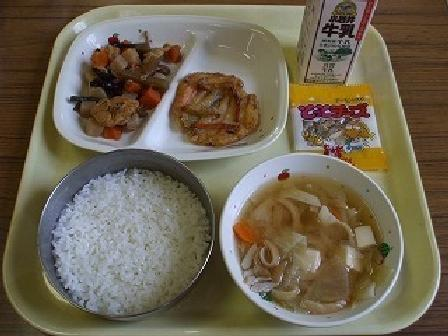Milk: (293, 0, 383, 88)
Rice: (45, 150, 217, 315)
Soups: (222, 161, 397, 320)
cooked food based on meat: (177, 65, 267, 153)
cooked food meat with vegetables: (67, 35, 167, 136)
